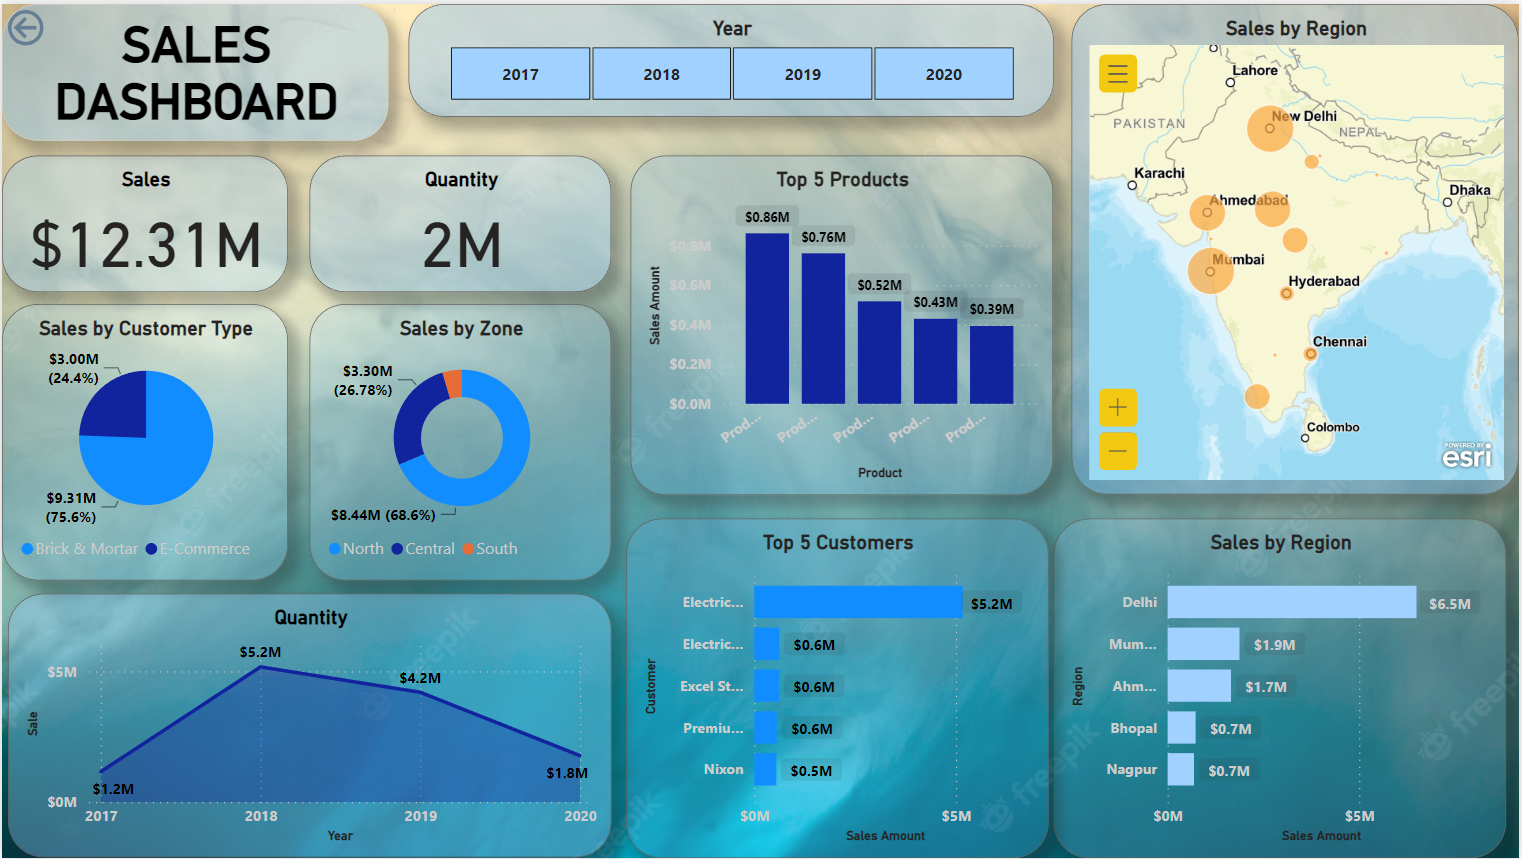

This screenshot's page, from the dashboard's own definition file:
{"tool":"powerbi","page":{"name":"Page 1","canvas":[1280,720],"ordinal":0},"visuals":[{"type":"card","title":"Sales","fields":{"Values":["sales transactions.sales_amount in USD"]},"box":[0,127.4,241.1,115.3],"z":0},{"type":"actionButton","box":[0,0,100,40],"z":1000},{"type":"card","title":"Quantity","fields":{"Values":["sales transactions.sales_qty"]},"box":[259.3,127.4,254.8,115.3],"z":2000},{"type":"slicer","title":"Year","fields":{"Values":["sales date.year"]},"box":[342.7,0,544.5,95.5],"z":3000},{"type":"esriVisual","title":"Sales by Region","fields":{"Location":["sales markets.markets_name"],"Size":["sales transactions.sales_amount in USD"]},"box":[902.4,0,377.6,414],"z":4000},{"type":"clusteredBarChart","title":"Sales by Region","fields":{"Y":["sales transactions.sales_amount in USD"],"Category":["sales markets.markets_name"]},"box":[887.2,433.7,382.2,286.6],"z":5000},{"type":"clusteredBarChart","title":"Top 5 Customers","fields":{"Category":["sales customers.custmer_name"],"Y":["sales transactions.sales_amount in USD"]},"box":[526.3,433.7,356.4,286.6],"z":6000},{"type":"pieChart","title":"Sales by Customer Type","fields":{"Category":["sales customers.customer_type"],"Y":["sales transactions.sales_amount in USD"]},"box":[0,253.3,241.1,233.6],"z":7000},{"type":"donutChart","title":"Sales by Zone","fields":{"Y":["sales transactions.sales_amount in USD"],"Category":["sales markets.zone"]},"box":[259.3,253.3,254.8,233.6],"z":8000},{"type":"areaChart","title":"Quantity","fields":{"Category":["sales date.year"],"Y":["sales transactions.sales_amount in USD"]},"box":[4.5,497.4,509.6,222.9],"z":9000},{"type":"clusteredColumnChart","title":"Top 5 Products","fields":{"Category":["sales transactions.product_code"],"Y":["sales transactions.sales_amount in USD"]},"box":[530.8,127.4,356.4,286.6],"z":9001},{"type":"textbox","title":"SALES DASHBOARD","box":[0,0,326.1,115.3],"z":9002}]}

Visuals, with their boxes in screenshot pixels (x1, y1, x2, y2), scaled from the page's 1280x720 canvas onto the 1522x859 screenshot:
"Sales" card: locate(0, 152, 287, 290)
actionButton: locate(0, 0, 119, 48)
"Quantity" card: locate(308, 152, 611, 290)
"Year" slicer: locate(407, 0, 1055, 114)
"Sales by Region" esriVisual: locate(1073, 0, 1521, 494)
"Sales by Region" clusteredBarChart: locate(1055, 517, 1509, 858)
"Top 5 Customers" clusteredBarChart: locate(626, 517, 1050, 858)
"Sales by Customer Type" pieChart: locate(0, 302, 287, 581)
"Sales by Zone" donutChart: locate(308, 302, 611, 581)
"Quantity" areaChart: locate(5, 593, 611, 858)
"Top 5 Products" clusteredColumnChart: locate(631, 152, 1055, 494)
"SALES DASHBOARD" textbox: locate(0, 0, 388, 138)
